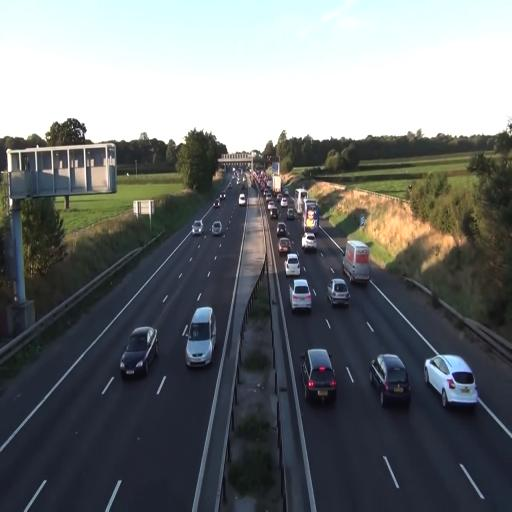vehicle: (424, 352, 478, 410), (370, 353, 412, 408), (120, 325, 158, 380), (302, 347, 337, 405), (185, 307, 217, 369), (342, 239, 371, 287), (306, 366, 338, 406), (302, 202, 320, 246), (290, 278, 312, 312), (327, 278, 350, 309), (277, 226, 292, 256), (285, 252, 301, 276), (277, 233, 292, 255), (211, 220, 223, 237), (192, 220, 202, 234)
